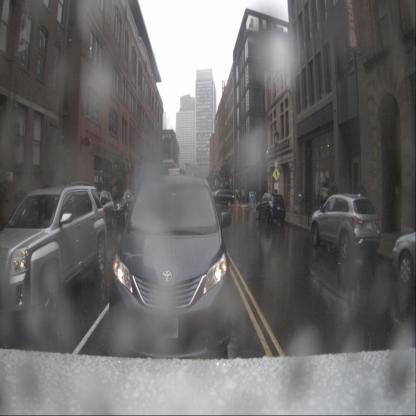cone: (241, 202, 246, 216), (235, 198, 239, 213)
